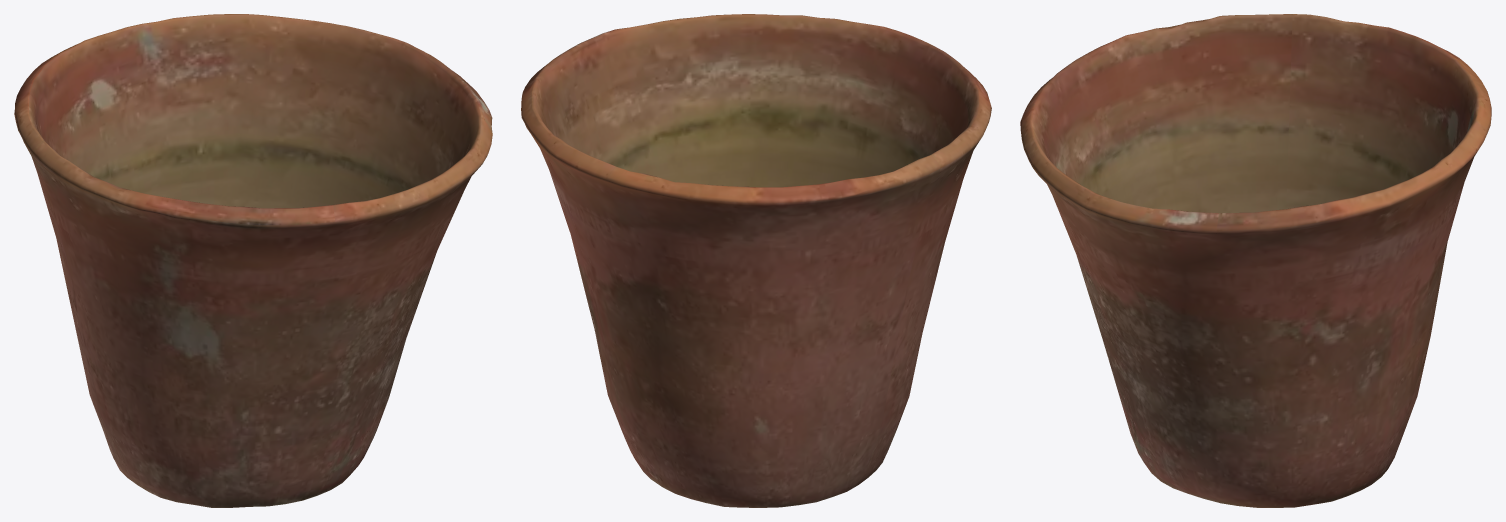
File: planter_pot_clay.gltf
3 renders of one model, left to right at view 1: azimuth 30°, elevation 25°; view 2: azimuth 150°, elevation 25°; view 3: azimuth 270°, elevation 25°, orthographic.
Parts seen in each view (by area): view 1: planter_pot_clay; view 2: planter_pot_clay; view 3: planter_pot_clay.
Part boxes in pixels (bbox=[...]): planter_pot_clay: bbox=[14, 14, 492, 507]; planter_pot_clay: bbox=[521, 14, 991, 507]; planter_pot_clay: bbox=[1020, 14, 1491, 507].
Bounding box in the file's own units: 0.266 × 0.2219 × 0.2635.
Materials: 1 (1 with a texture image).
